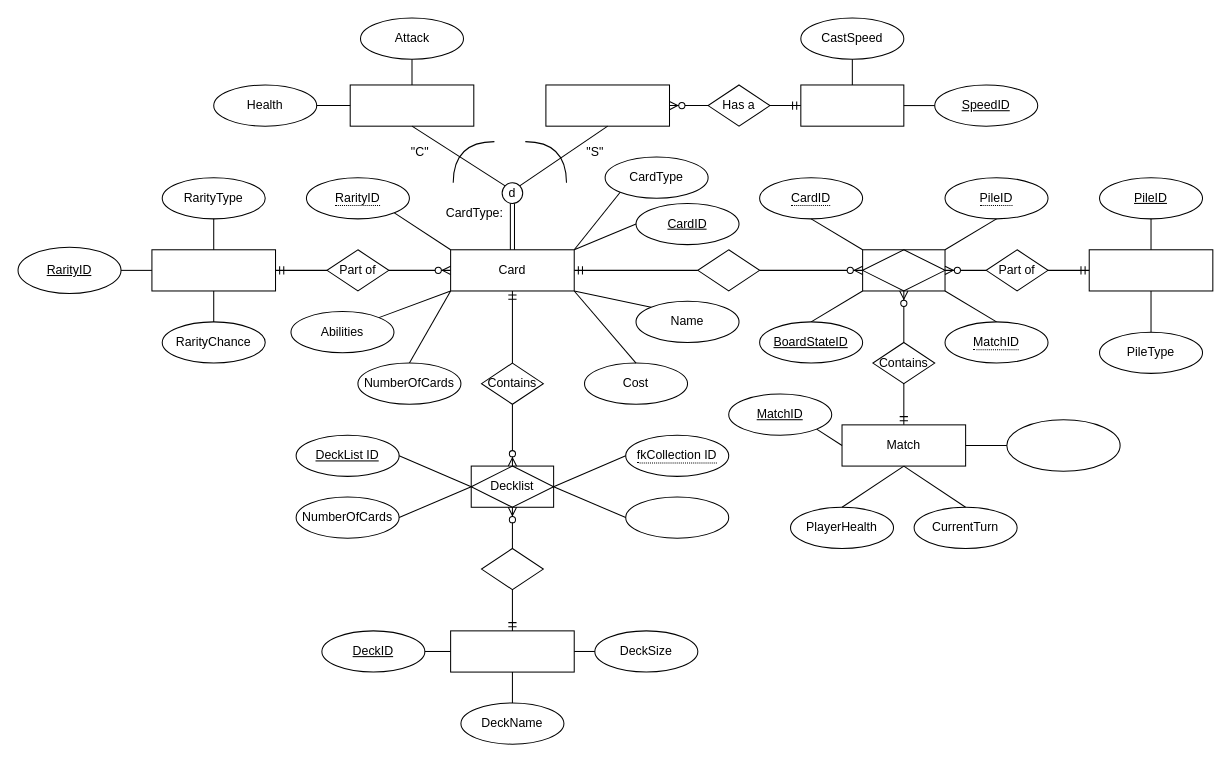
This 1231x762 diagram has some shape labels left out. Here are the shapes that lost their labels. From the top down, the box of each, then its label:
(349, 84, 474, 126): Creature
(545, 84, 670, 126): Spell
(800, 84, 904, 126): Speed
(151, 249, 276, 291): Rarity
(697, 249, 760, 291): Is a
(862, 249, 945, 291): BoardState
(1088, 249, 1213, 291): Pile
(1006, 419, 1120, 471): ManaSpent
(625, 496, 729, 538): fkDeckID
(480, 547, 543, 590): Has
(450, 630, 574, 672): Deck
